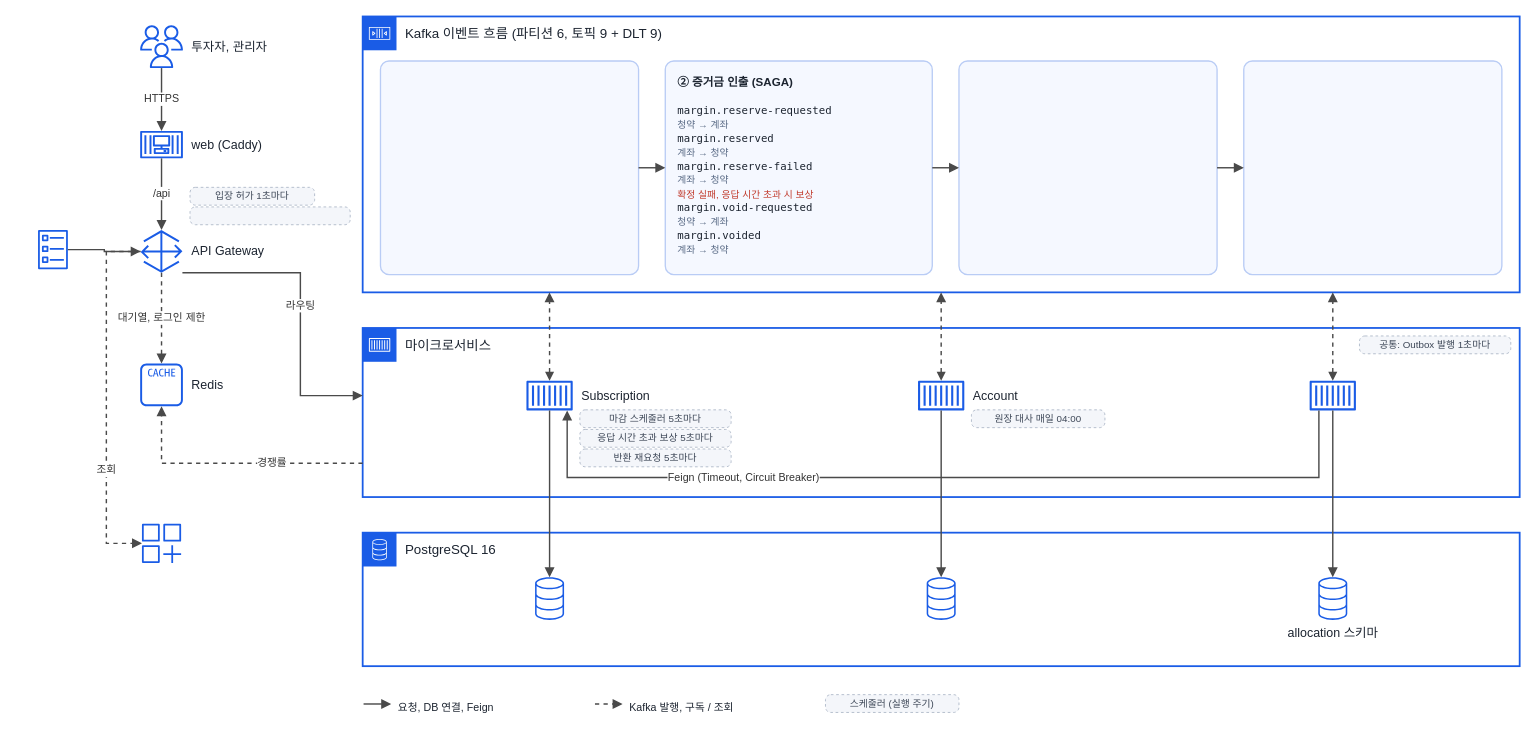
Image size: 1536x729. Some labels were removed from this diagram. The centre of each missing label's shape, as x and y in pixels:
"account 스키마" belongs at point 940,598.
"Allocation" belongs at point 1332,395.
"Eureka" belongs at point 161,542.
"k6 부하 테스트" belongs at point 52,249.
"subscription 스키마" belongs at point 549,598.
"① 청약 접수 청약과 증거금 인출 요청을 한 트랜잭션에 저장 인출 요청은 Outbox로 ②에 발행 → 바로 202 응답" belongs at point 509,167.
"③ 마감, 배정 ipo.closed 청약 → 배정 (마감 스케줄러가 발행) allocation.result 배정 → 계좌, 청약" belongs at point 1087,167.
"④ 정산, 환불 margin.settled 계좌 → 청약 allocation.finished 배정 → 청약" belongs at point 1372,167.
"청약 중 공모주 목록 5초마다" belongs at point 269,215.
